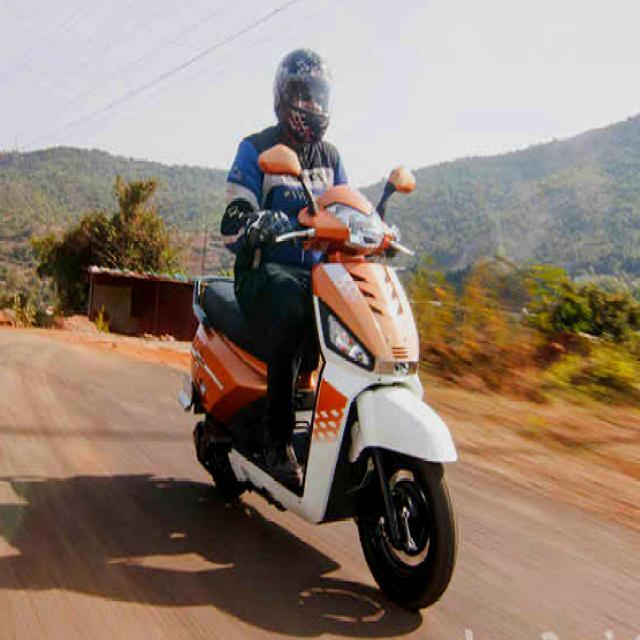Helmet: (269, 41, 341, 152)
